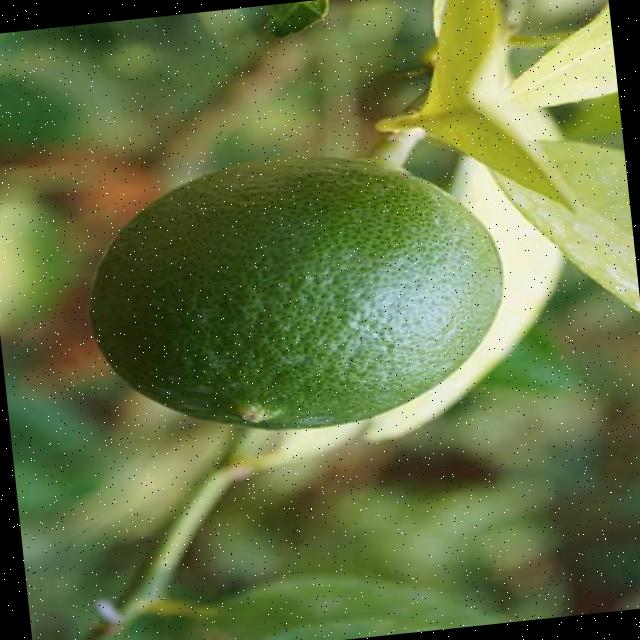Unripe: (78, 134, 516, 448)
